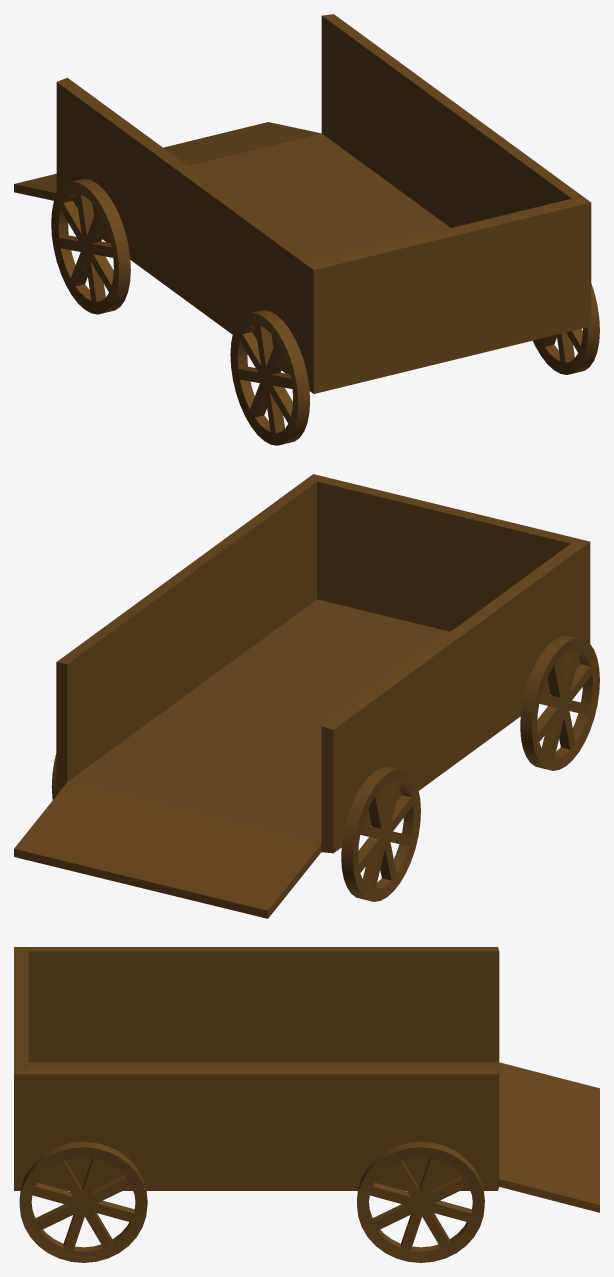
File: TL_Cart.fbx
The picture shows the model from 3 angles, top to bottom: view 1: azimuth 30°, elevation 25°; view 2: azimuth 150°, elevation 25°; view 3: azimuth 270°, elevation 25°; orthographic projection. The views are drawn at different scales.
Parts seen in each view (by area): view 1: Cart; view 2: Cart; view 3: Cart.
Part boxes in pixels (<box>): Cart: <box>14,14,599,445</box>; Cart: <box>14,474,599,918</box>; Cart: <box>14,947,599,1262</box>.
Size of the model in its own units: 238 by 147 by 424.
